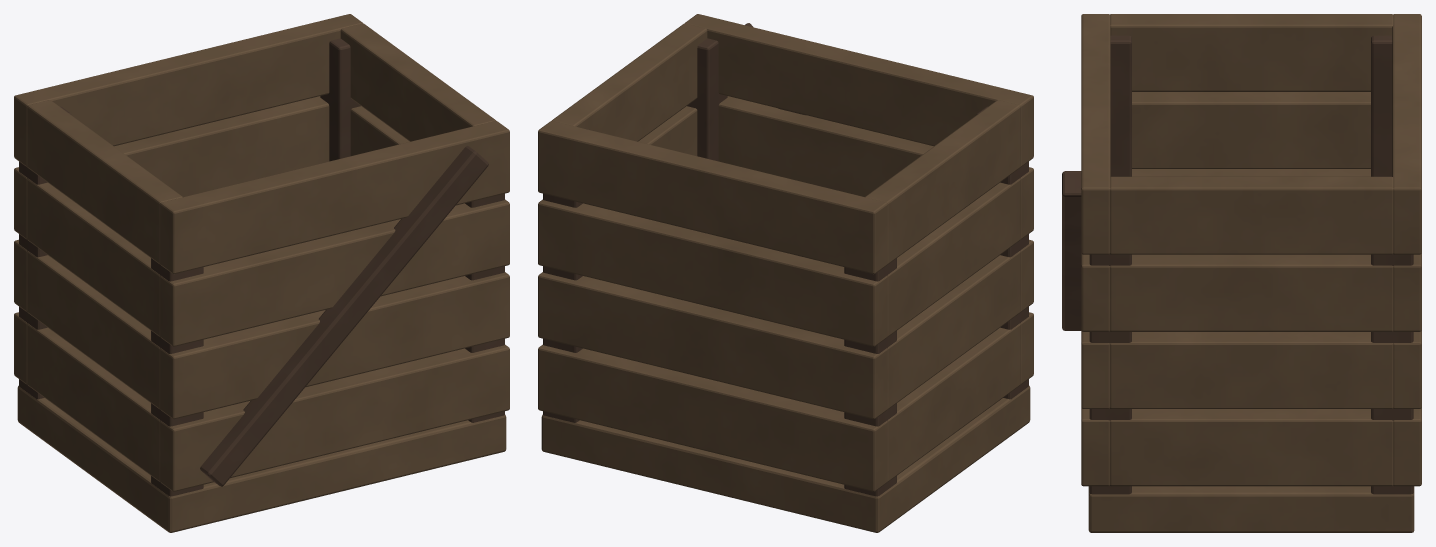
The model's file is Crate_Open.fbx.
The picture shows the model from 3 angles, left to right: view 1: azimuth 30°, elevation 25°; view 2: azimuth 150°, elevation 25°; view 3: azimuth 270°, elevation 25°; orthographic projection. The views are drawn at different scales.
Parts seen in each view (by area): view 1: Crate_Open.001; view 2: Crate_Open.001; view 3: Crate_Open.001.
Part boxes in pixels (box(x1,y1,x2,y2)): Crate_Open.001: box(14, 14, 509, 532); Crate_Open.001: box(538, 14, 1033, 532); Crate_Open.001: box(1062, 14, 1421, 532).
Bounding box in the file's own units: 1.12 × 1.03 × 0.9715.
